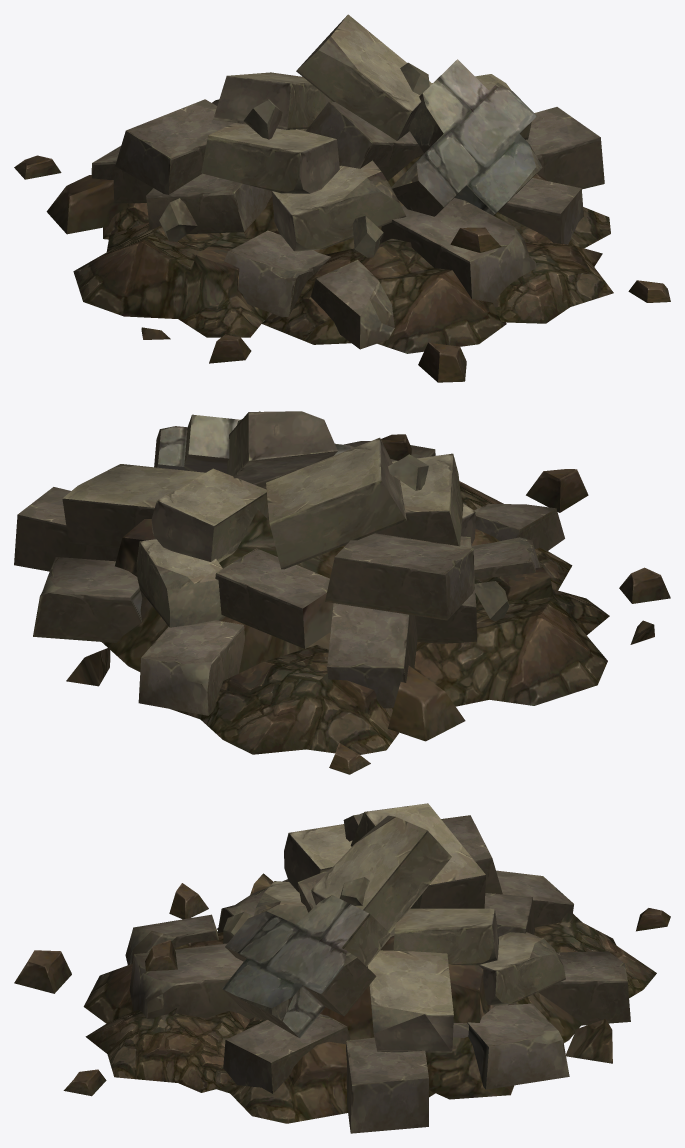
The model's file is BD_BrickWreckage03.FBX.
The picture shows the model from 3 angles, top to bottom: view 1: azimuth 30°, elevation 25°; view 2: azimuth 150°, elevation 25°; view 3: azimuth 270°, elevation 25°; orthographic projection. The views are drawn at different scales.
Visible parts, largest first — view 1: BD_BrickWreckage03; view 2: BD_BrickWreckage03; view 3: BD_BrickWreckage03.
Part boxes in pixels (x1,y1,x2,y2): BD_BrickWreckage03: [14, 14, 670, 382]; BD_BrickWreckage03: [14, 411, 670, 774]; BD_BrickWreckage03: [14, 803, 670, 1133].
Bounding box in the file's own units: 1240 × 469 × 1376.
